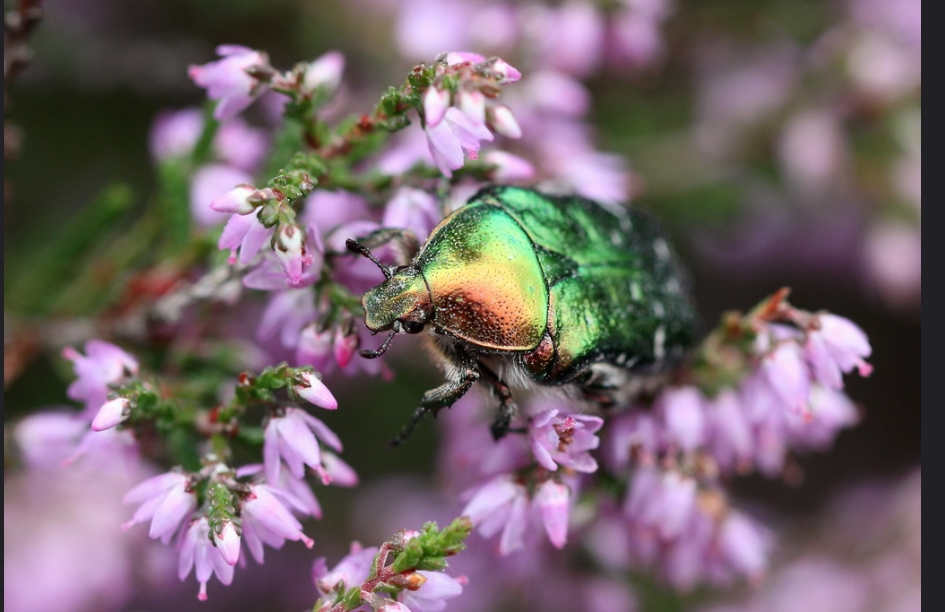Cetonia_aurata: (335, 178, 708, 458)
